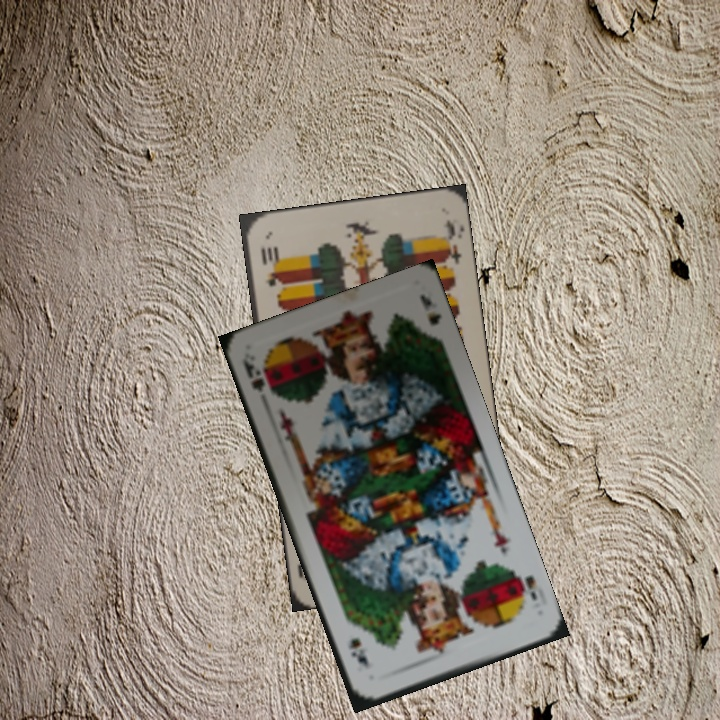E10: (256, 243, 282, 289)
SK: (238, 353, 276, 399), (508, 565, 540, 606)
